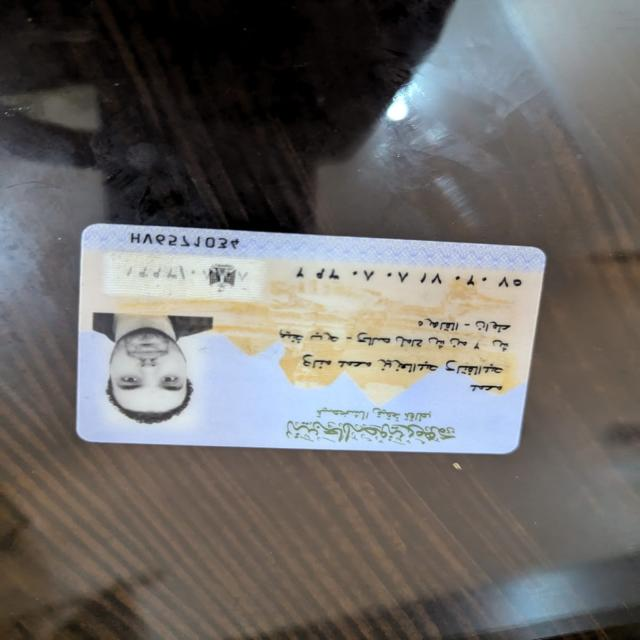ID-cards: (71, 212, 560, 463)
